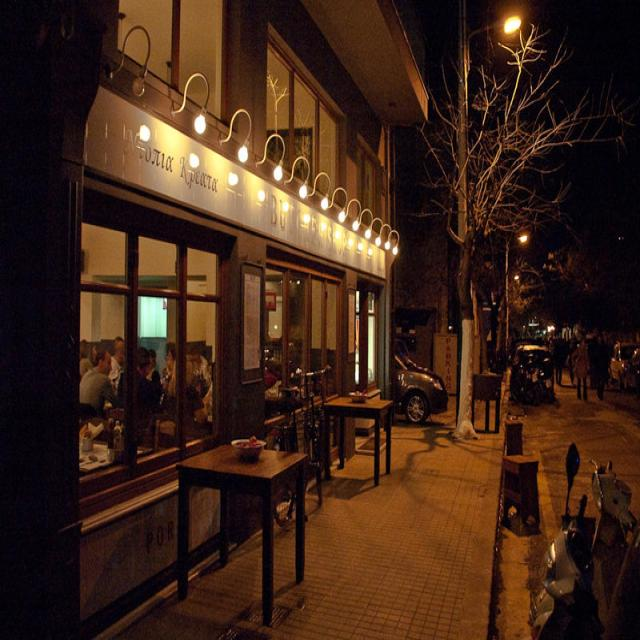Motorbike: (538, 453, 606, 640)
People: (123, 328, 157, 413), (592, 325, 627, 407), (105, 306, 139, 379), (84, 341, 113, 416), (569, 333, 592, 409), (164, 331, 188, 400)
Table: (174, 429, 317, 631), (327, 380, 403, 487)
car: (386, 332, 451, 430), (506, 330, 560, 427)
